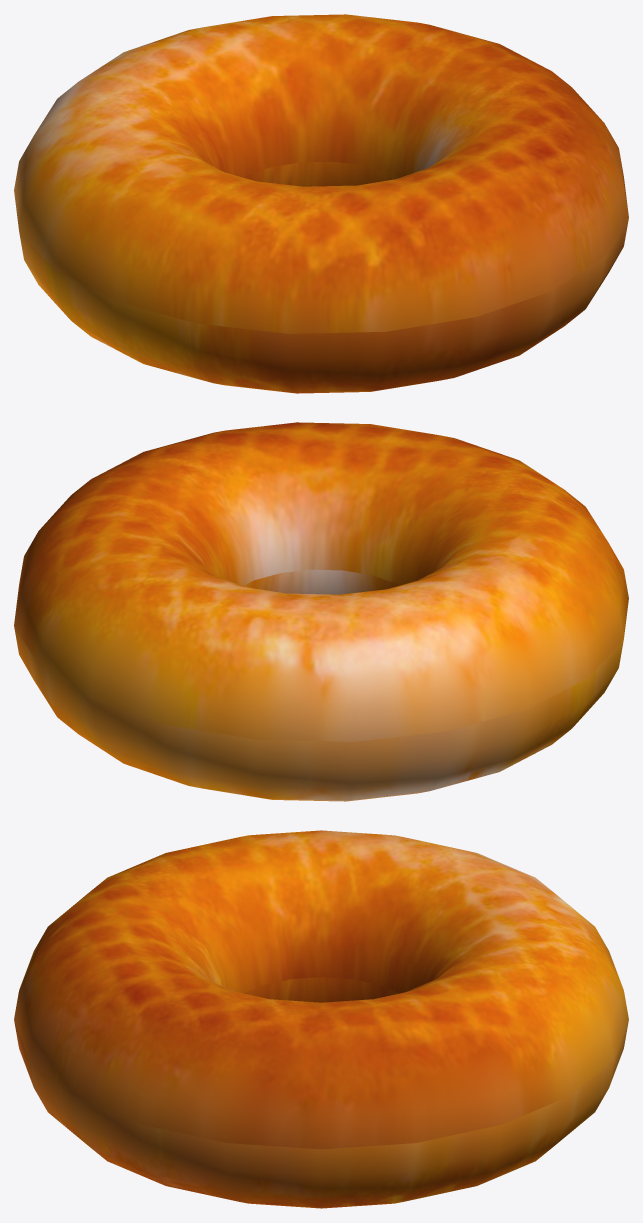
File: Donut.fbx
The picture shows the model from 3 angles, top to bottom: view 1: azimuth 30°, elevation 25°; view 2: azimuth 150°, elevation 25°; view 3: azimuth 270°, elevation 25°; orthographic projection.
Parts seen in each view (by area): view 1: Donut; view 2: Donut; view 3: Donut.
Boxes of the visible parts, x1,y1,x2,y2 form: Donut: (14, 14, 628, 393); Donut: (14, 422, 628, 801); Donut: (14, 830, 628, 1208).
Size of the model in its own units: 99.74 by 33.64 by 99.74.
Materials: 1 (1 with a texture image).
